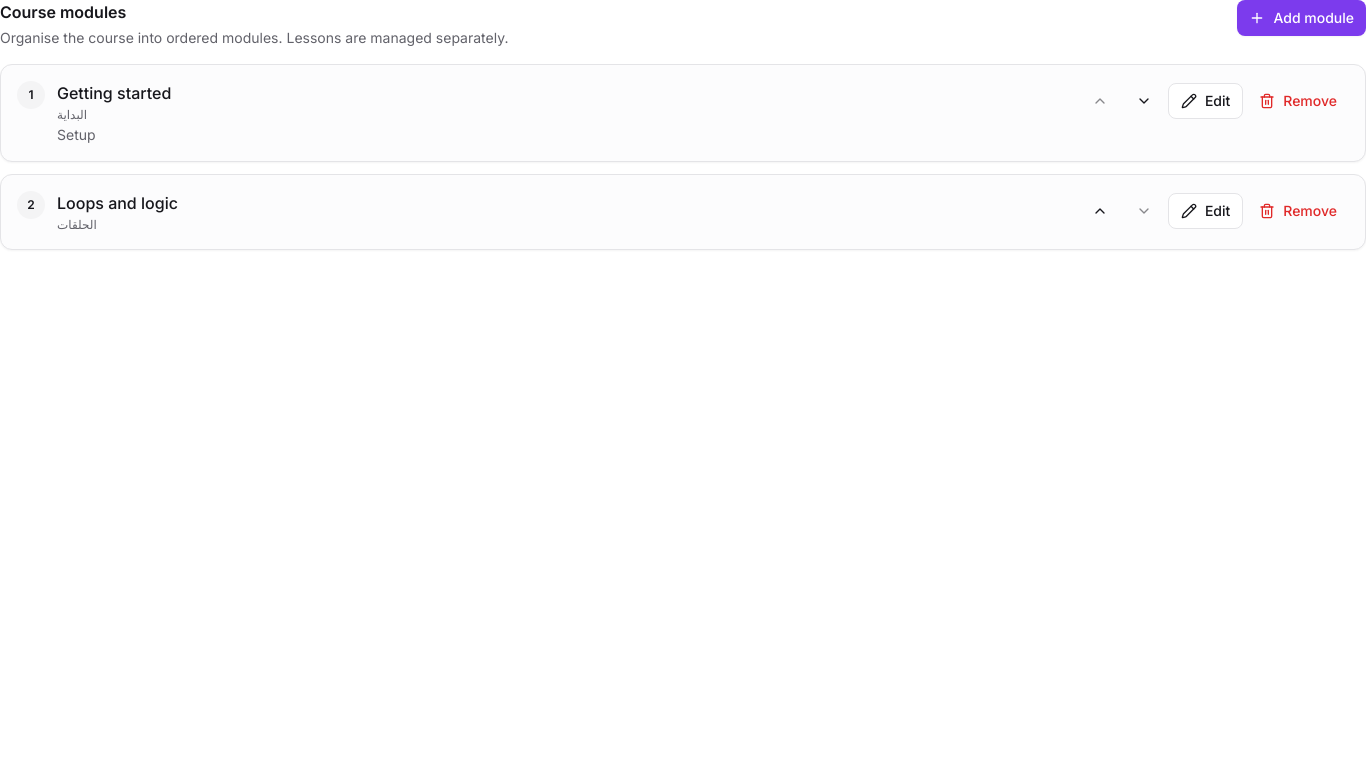
Test: ModulesManager › initialises the edit dialog from the selected module
This screenshot has width=1366, height=768.
Click the button "Edit" in the row of "Getting started" at x=1206, y=101, box top-left (1168, 83), bottom-right (1243, 119)
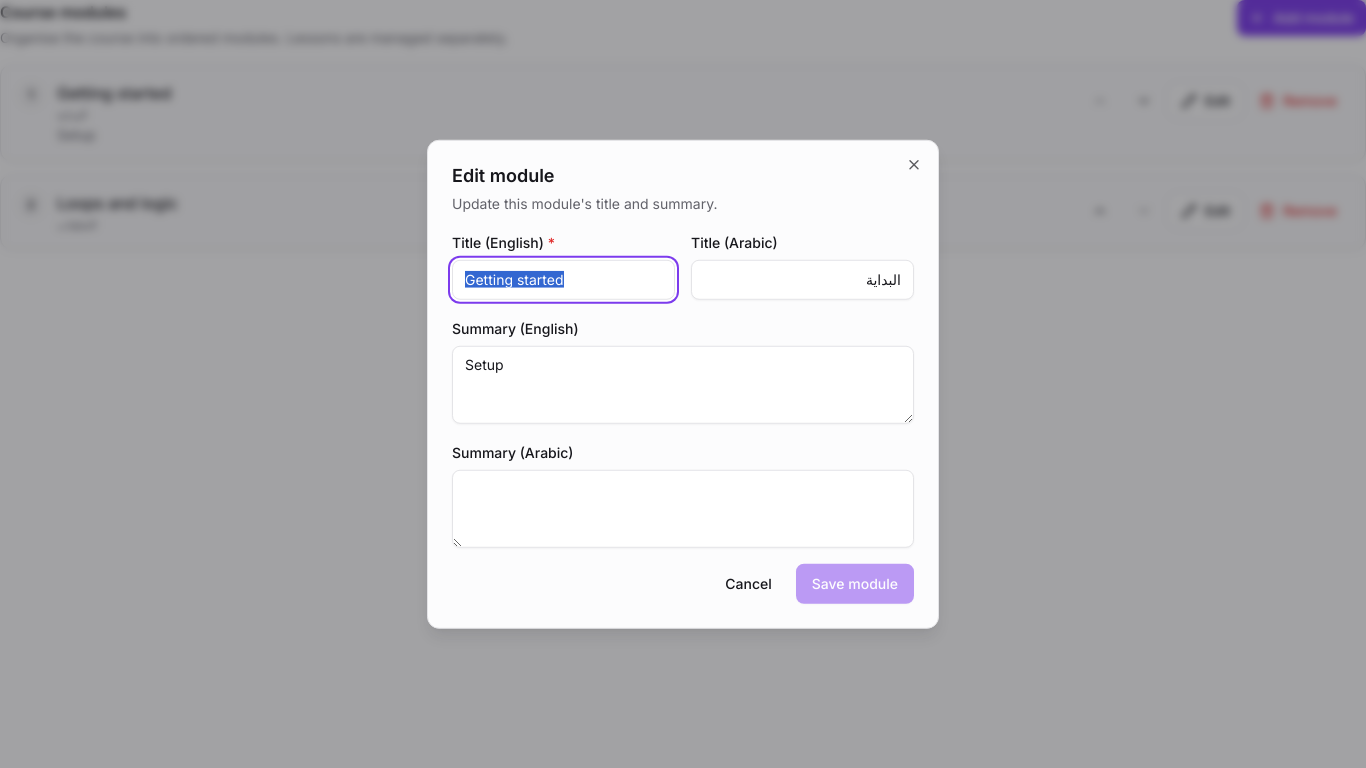
Expected: the field labelled "Title (English)*" holds "Getting started", top-left (452, 259), bottom-right (675, 299)
